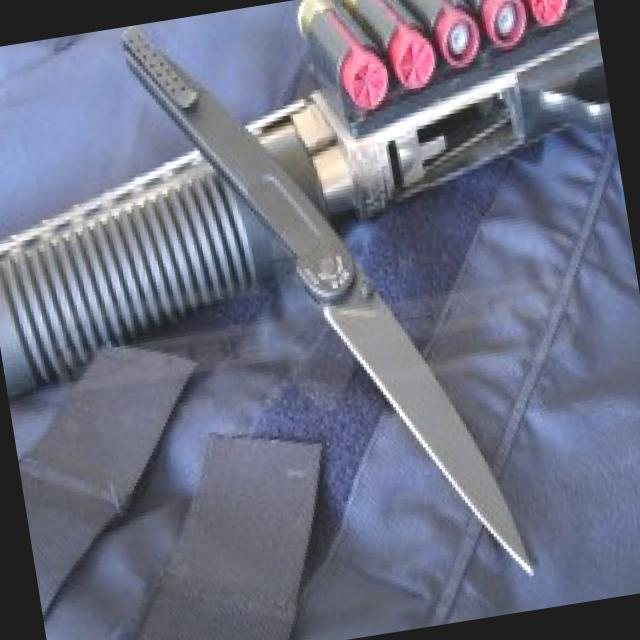knife: (286, 206, 538, 616)
